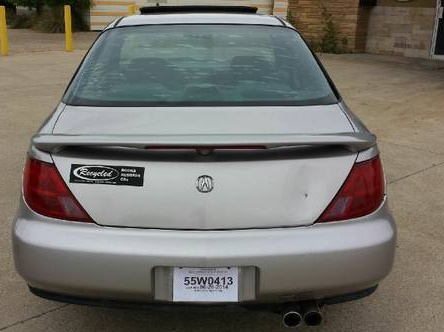acura: (11, 12, 403, 327)
